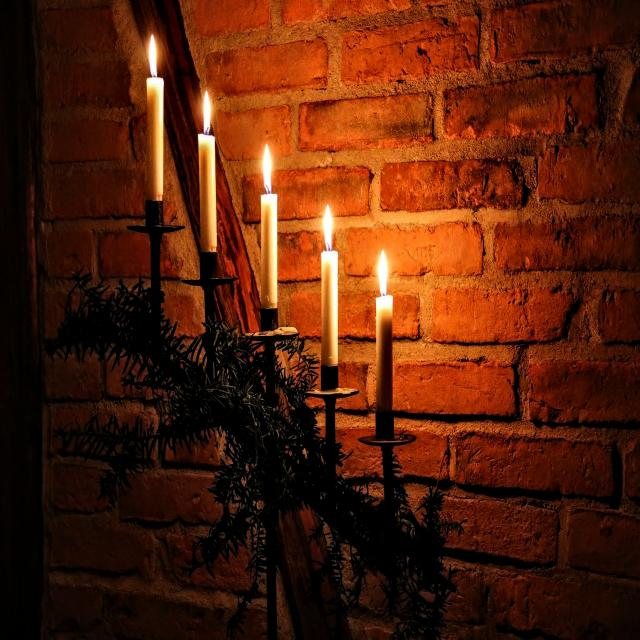Fire_Save: (144, 33, 164, 201), (198, 89, 218, 253), (260, 143, 278, 310), (375, 248, 393, 412), (321, 204, 338, 368)
